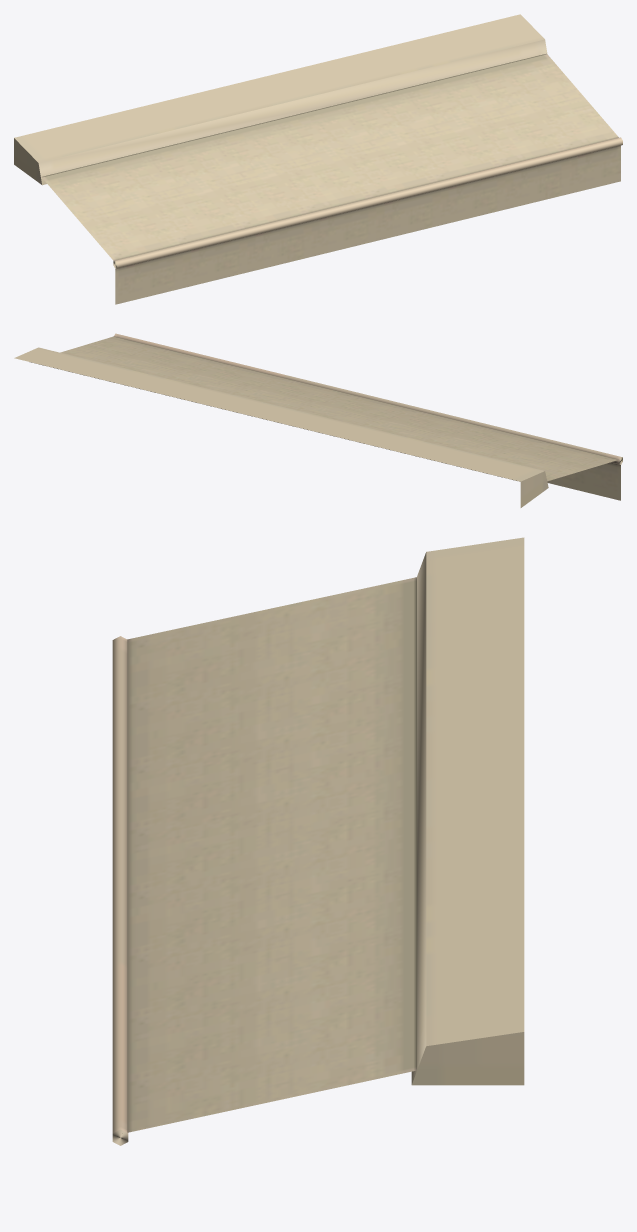
3 renders of one model, top to bottom at view 1: azimuth 30°, elevation 25°; view 2: azimuth 150°, elevation 25°; view 3: azimuth 270°, elevation 25°, orthographic. The views are drawn at different scales.
Visible parts, largest first — view 1: um_t1_ar104a_model_t1_ar104a_modelShape; view 2: um_t1_ar104a_model_t1_ar104a_modelShape; view 3: um_t1_ar104a_model_t1_ar104a_modelShape.
Boxes of the visible parts, bbox=[...] form: um_t1_ar104a_model_t1_ar104a_modelShape: bbox=[14, 14, 622, 304]; um_t1_ar104a_model_t1_ar104a_modelShape: bbox=[14, 333, 622, 507]; um_t1_ar104a_model_t1_ar104a_modelShape: bbox=[112, 537, 524, 1145].
Bounding box in the file's own units: 5.55 × 0.9739 × 1.95.
1 material, 1 textured.
